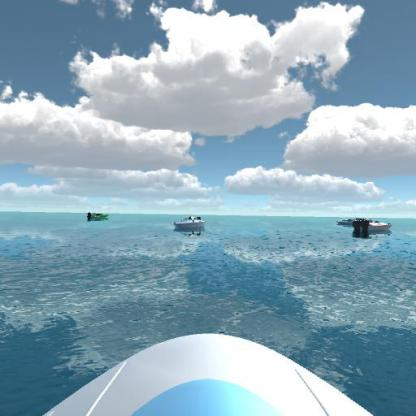usv0: (84, 209, 110, 224)
usv1: (172, 211, 209, 239), (334, 214, 361, 229)
usv3: (348, 216, 395, 238)
